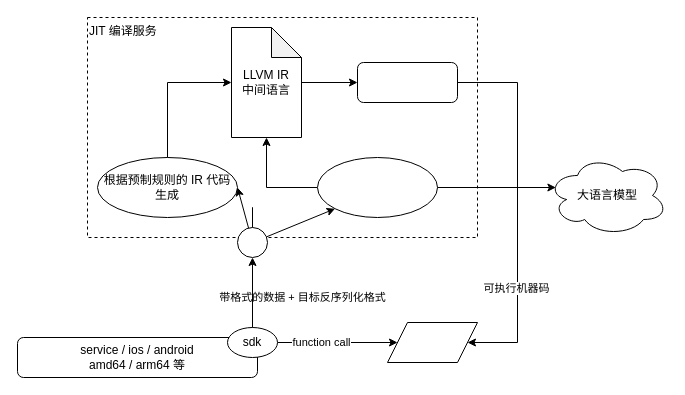
Some shapes in this 685 by 395 pixel diagram are drawn without their labels. Each missing label, with the centre of its shape:
llvm JIT: the point at 407,82
mmap 内存: the point at 432,342
生成 IR 语言的提示词: the point at 377,187
